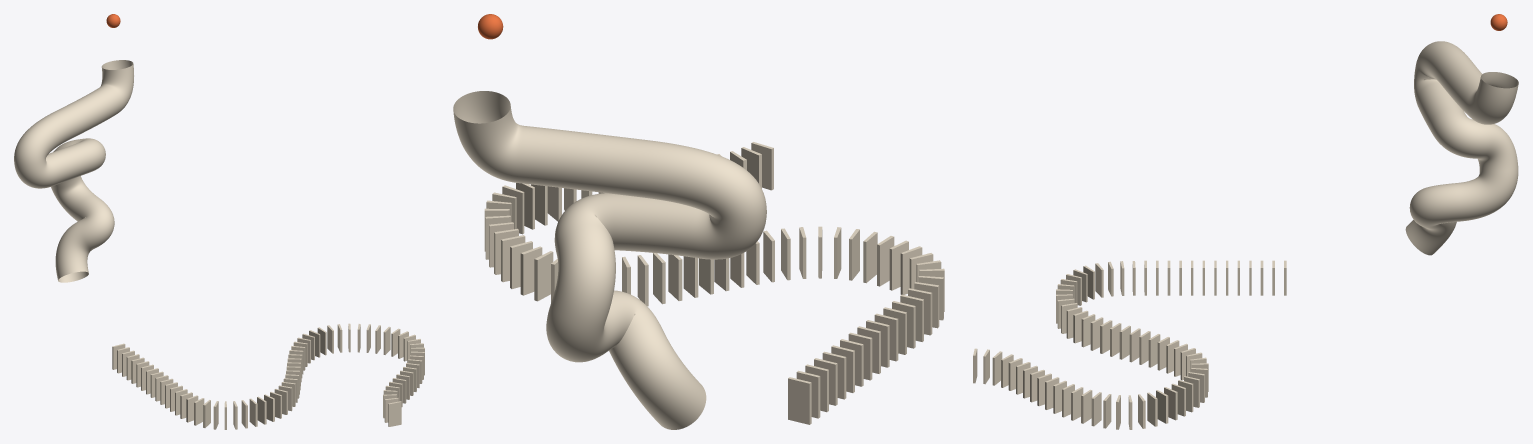
Rendered from intro_scene.glb.
3 views of the same model, side by side, from view 1: azimuth 30°, elevation 25°; view 2: azimuth 150°, elevation 25°; view 3: azimuth 270°, elevation 25° (orthographic). The views are drawn at different scales.
Parts seen in each view (by area): view 1: NurbsPath.004, Cube.001; view 2: NurbsPath.004, Cube.001, Sphere; view 3: Cube.001, NurbsPath.004.
Part boxes in pixels (x1,y1,x2,y2): NurbsPath.004: [14, 60, 133, 282]; Cube.001: [112, 323, 424, 429]; NurbsPath.004: [453, 91, 766, 429]; Cube.001: [484, 142, 944, 424]; Sphere: [478, 14, 503, 39]; Cube.001: [973, 260, 1286, 429]; NurbsPath.004: [1405, 41, 1518, 255].
Bounding box in the file's own units: 2.52 × 2.36 × 3.58.
